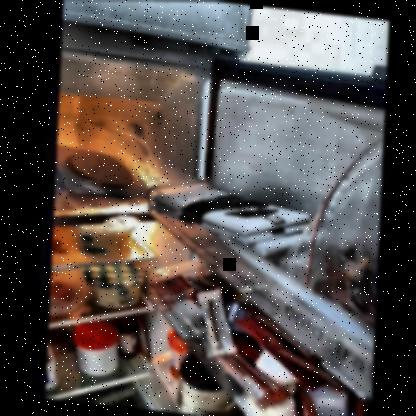chocolate: (157, 184, 305, 245)
salami: (60, 148, 133, 188)
yoghurt: (78, 264, 144, 308), (70, 223, 136, 258)
